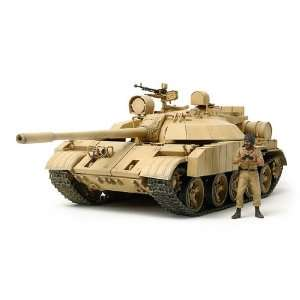Battle Tank: (20, 79, 288, 216)
